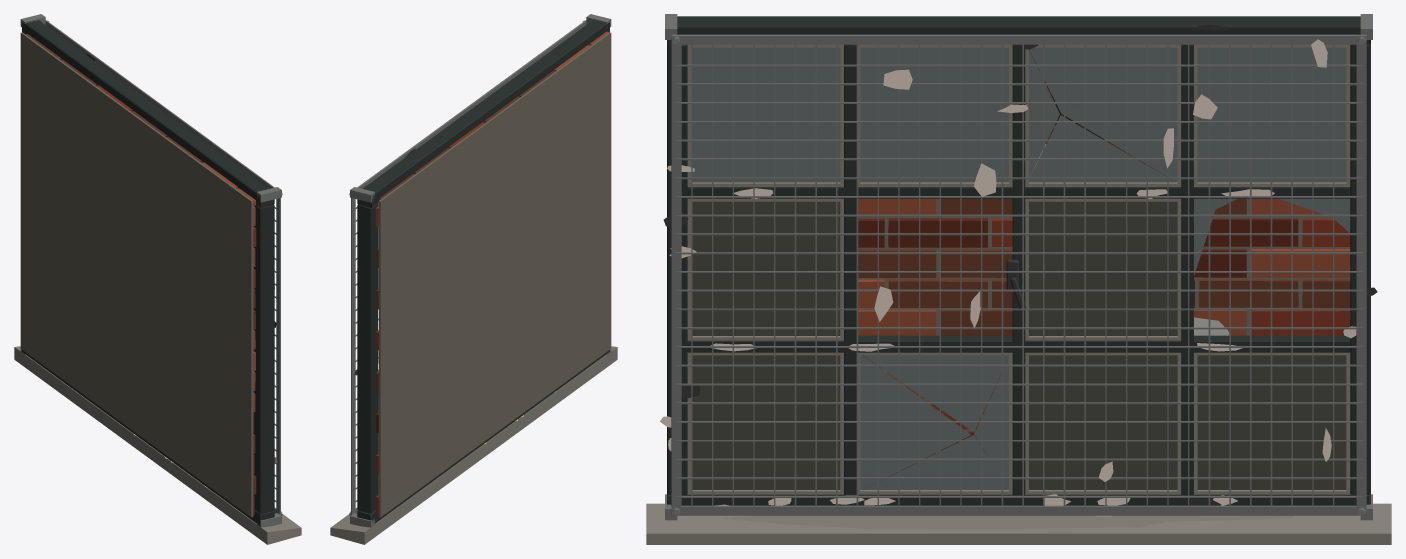
Rendered from window_brick@2.glb.
The picture shows the model from 3 angles, left to right: view 1: azimuth 30°, elevation 25°; view 2: azimuth 150°, elevation 25°; view 3: azimuth 270°, elevation 25°; orthographic projection. The views are drawn at different scales.
Visible parts, largest first — view 1: teil, teil.007, teil.013, teil.015, teil.004, teil.003; view 2: teil, teil.007, teil.013, teil.015, teil.004; view 3: teil.015, teil.011, teil.009, teil.007, teil.008, teil.013, teil.004, teil.003, teil.001, teil.010, teil.014, teil.002 (+2 smaller).
Boxes of the visible parts, x1,y1,x2,y2 form: teil: (20,32,253,517); teil.007: (22,20,274,525); teil.013: (14,346,301,544); teil.015: (20,14,281,527); teil.004: (26,34,256,494); teil.003: (202,162,255,412); teil: (378,32,611,517); teil.007: (357,20,609,523); teil.013: (330,346,617,544); teil.015: (350,14,611,527); teil.004: (375,71,555,391); teil.015: (665,14,1372,520); teil.011: (692,47,1350,489); teil.009: (692,201,1346,489); teil.007: (667,16,1370,505); teil.008: (687,44,1350,494); teil.013: (646,503,1391,544); teil.004: (858,67,1350,458); teil.003: (858,198,1350,398); teil.001: (858,53,1298,476); teil.010: (660,39,1356,516); teil.014: (719,515,1294,529); teil.002: (864,218,1350,484).
Size of the model in its own units: 0.16 by 1.36 by 1.8.
